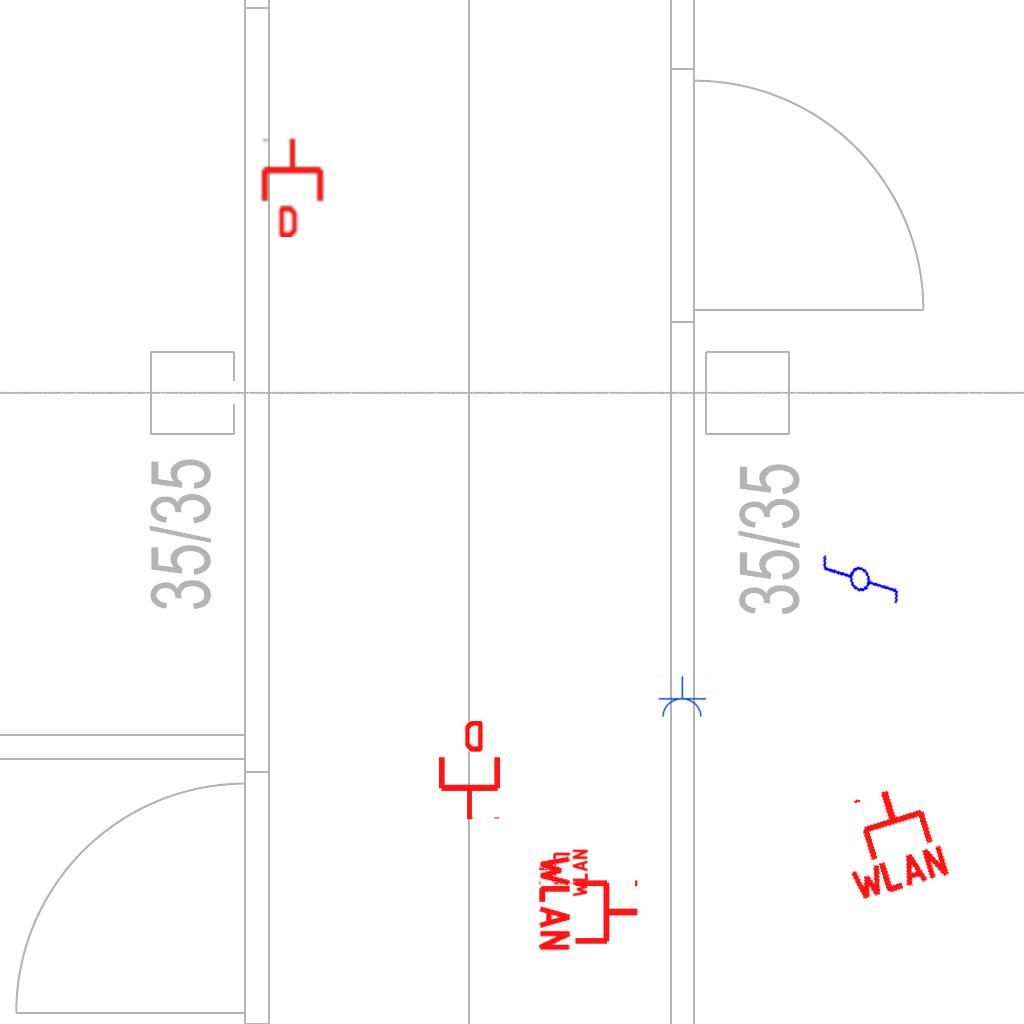Datenanschluss_einfach: (435, 721, 504, 821), (258, 137, 327, 237)
Schukosteckdose_einfach: (657, 676, 707, 719)
WLAN: (824, 774, 955, 906), (537, 851, 642, 955), (537, 847, 589, 899)
Wechselschalter: (815, 528, 905, 622)
